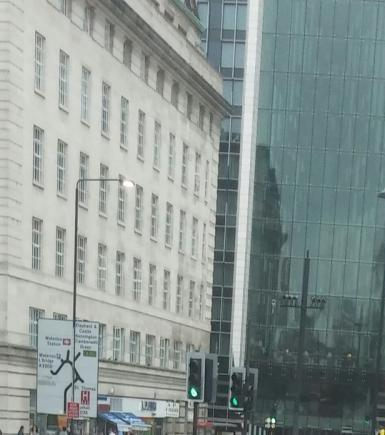green_light: (187, 353, 205, 401), (229, 367, 246, 410)
